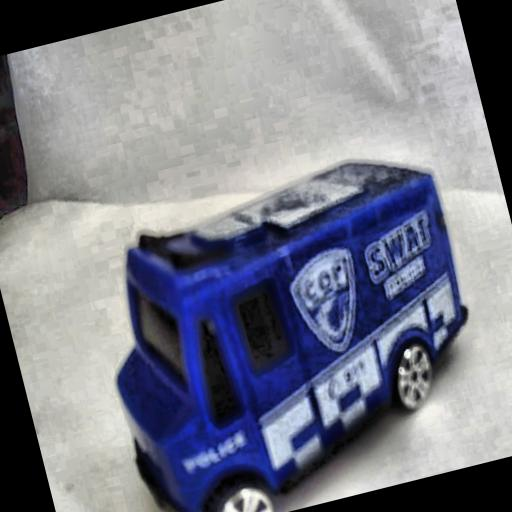police car: (65, 117, 510, 512)
